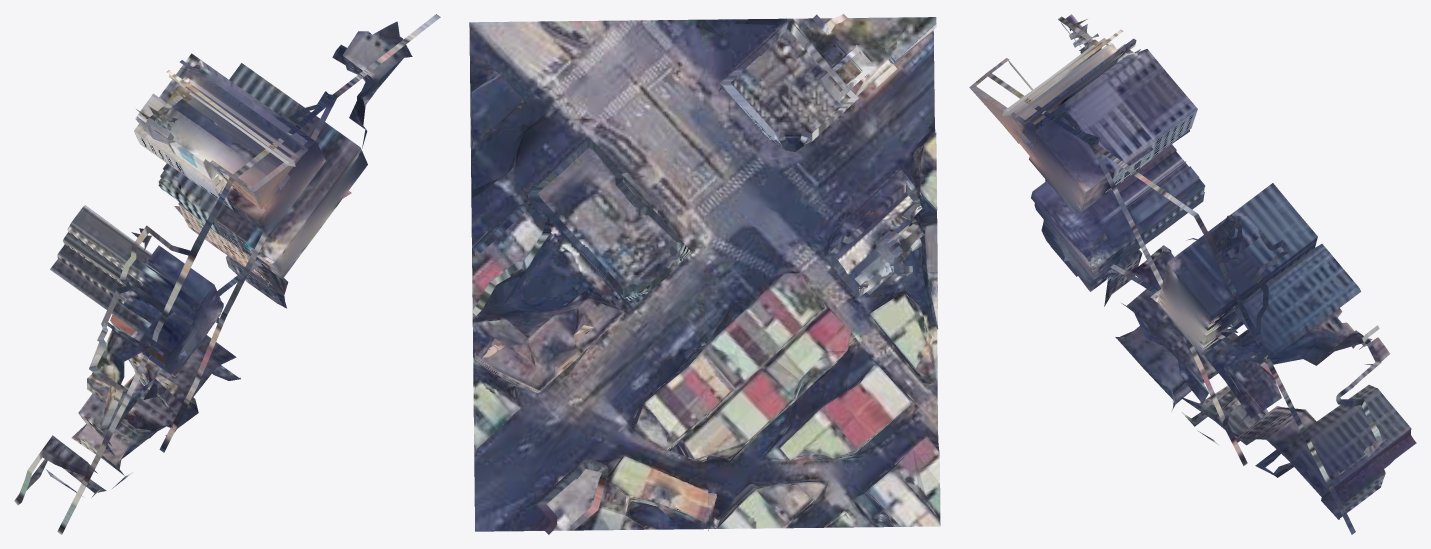
3 views of the same model, side by side, from view 1: azimuth 30°, elevation 25°; view 2: azimuth 150°, elevation 25°; view 3: azimuth 270°, elevation 25° (orthographic). The views are drawn at different scales.
Size of the model in its own units: 160 by 158 by 156.
2 materials, 2 textured.
